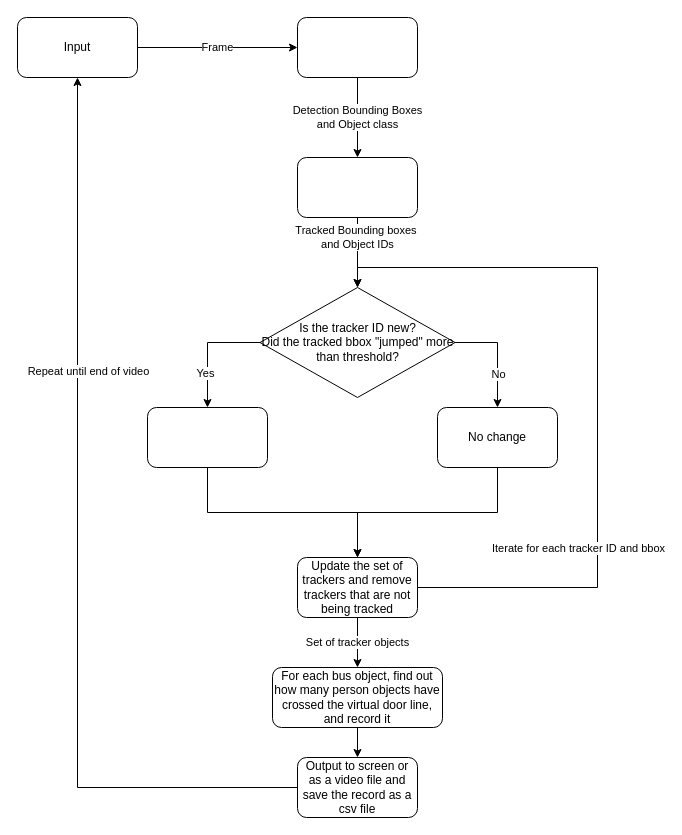
The diagram is 682 pixels wide and 835 high, and some of its shapes have lost their labels. The shapes that lost their labels are listed below. From the top down, each one's centre as x and y in pixels, then its label:
the point at 357,47: Bus, Person Detection
the point at 357,187: SORT / Deep SORT Tracker
the point at 207,437: Create new track object
